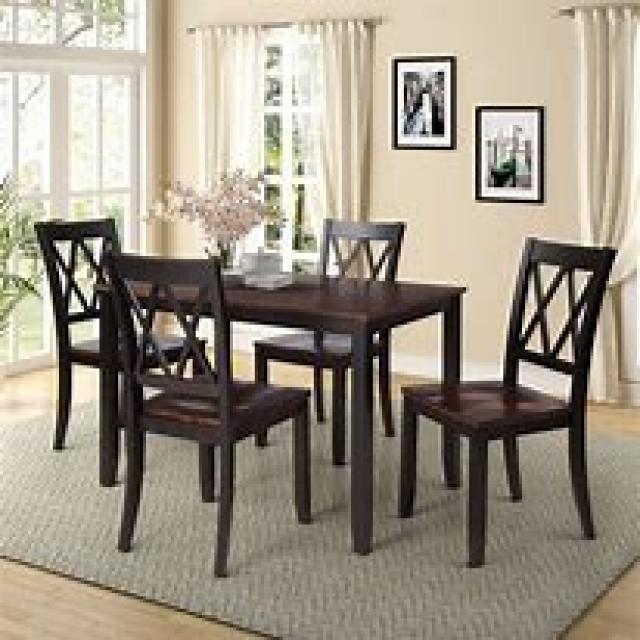chair: (395, 234, 615, 565), (31, 215, 208, 487), (252, 215, 404, 466)
table: (93, 266, 466, 552)
